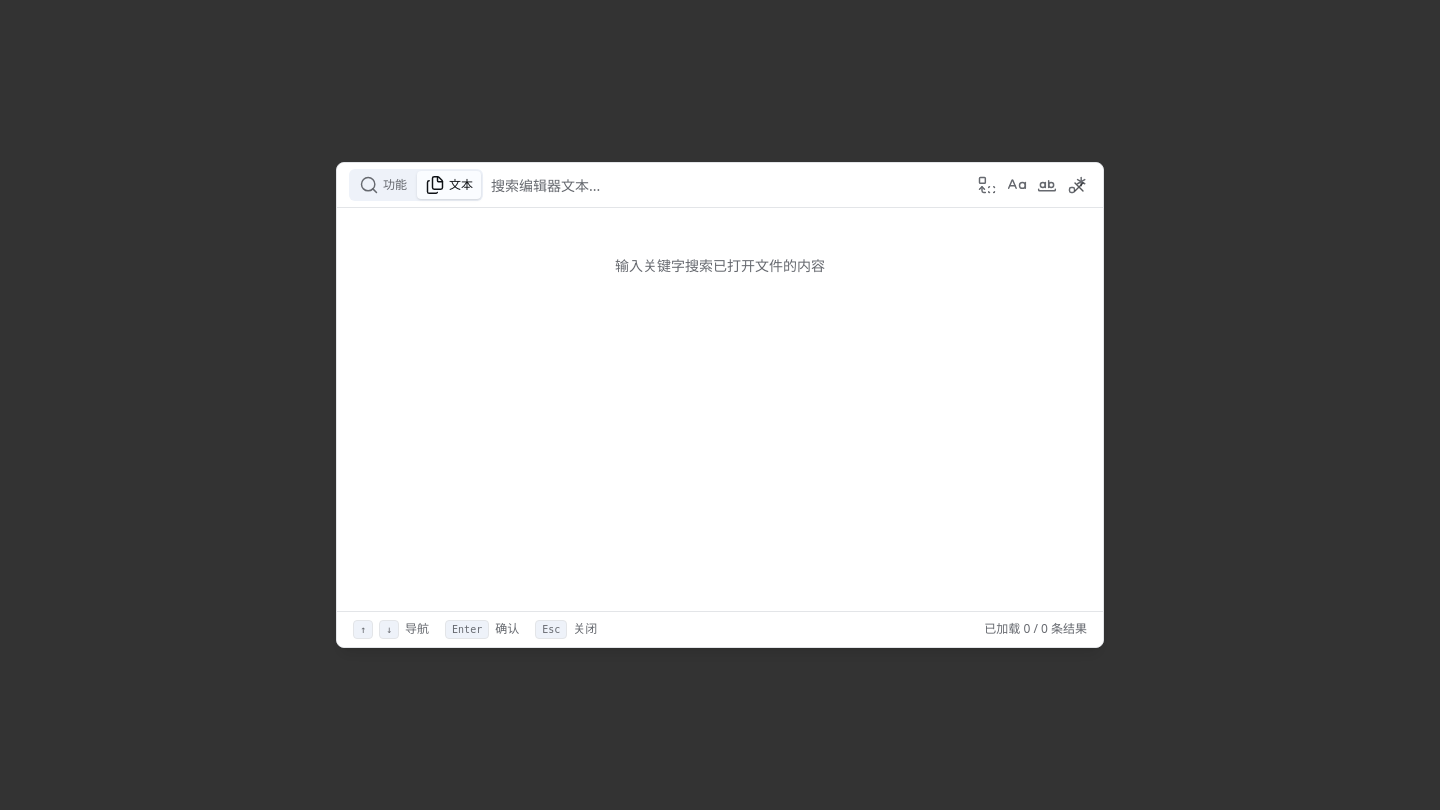
Test: SearchDialog 文本模式 › 点击底部提示加载下一批匹配行
In the dropdown with placeholder "搜索编辑器文本...": (728,185) [491,163,965,207], type "find"
(page scrolled)
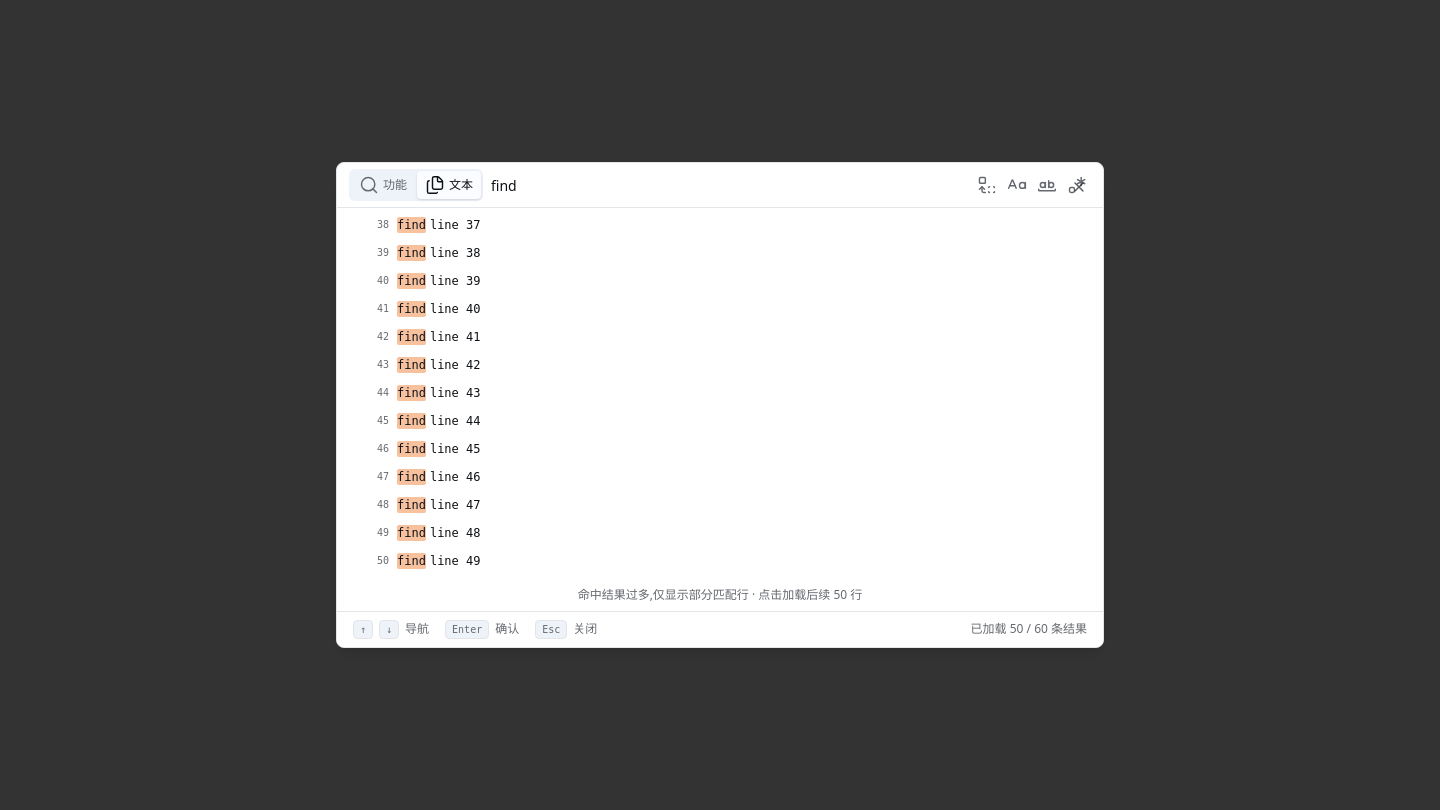
Result: the option "50 find line 49" is shown at [377,553,480,569]
Click the button "命中结果过多,仅显示部分匹配行 · 点击加载后续 50 行": (720,595) [337,579,1103,611]
(page scrolled)
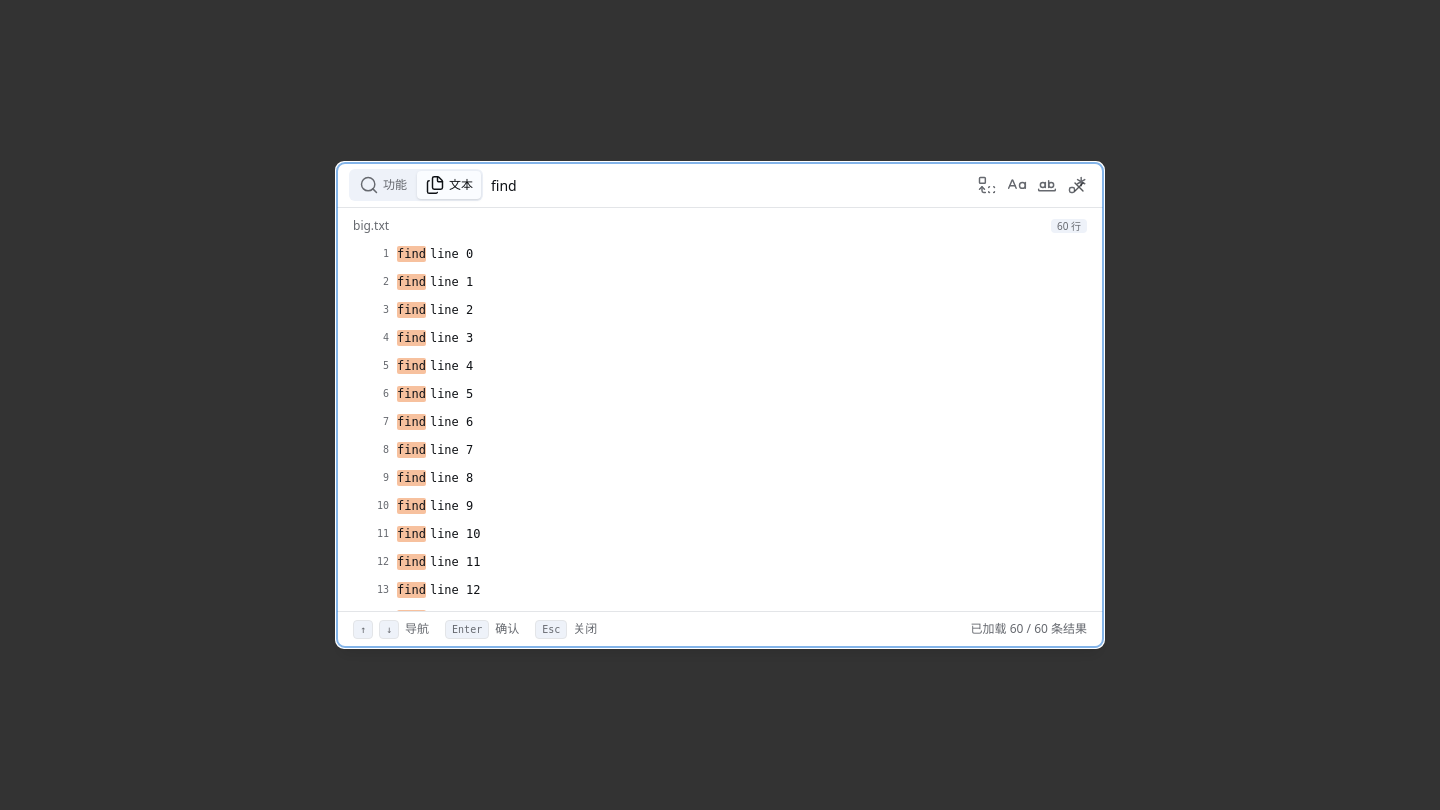
Result: the text "60 行" is shown at [1051,219,1087,233]
Result: the button "命中结果过多" is gone
